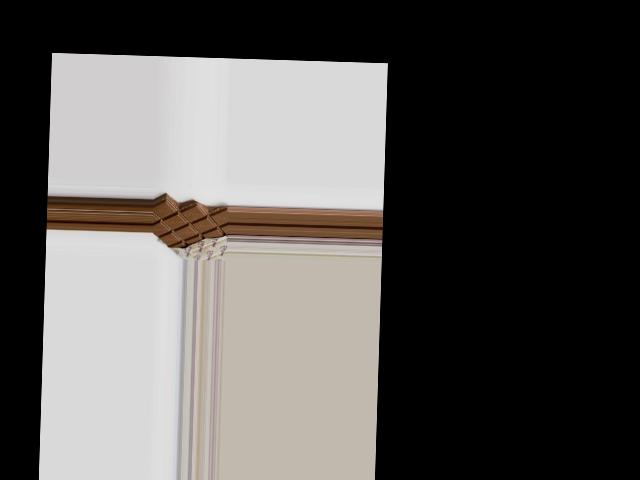chocolate: (152, 198, 229, 260)
